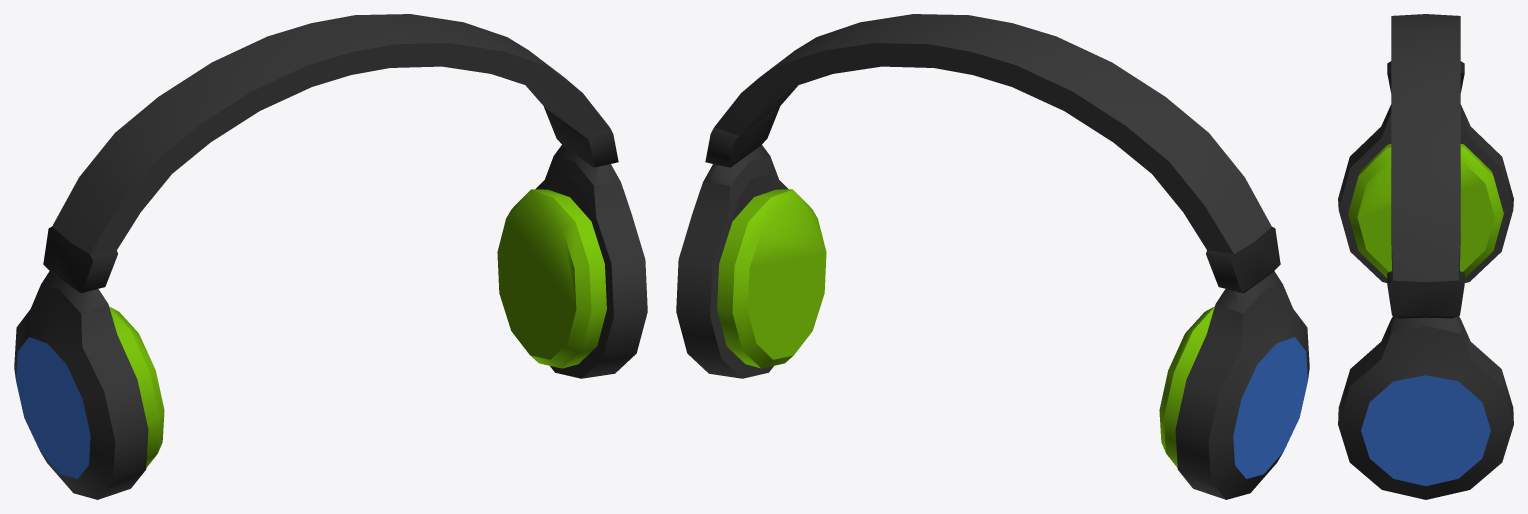
The model's file is Headphones.fbx.
The picture shows the model from 3 angles, left to right: view 1: azimuth 30°, elevation 25°; view 2: azimuth 150°, elevation 25°; view 3: azimuth 270°, elevation 25°; orthographic projection. The views are drawn at different scales.
Parts seen in each view (by area): view 1: Headphones; view 2: Headphones; view 3: Headphones.
Part boxes in pixels (left/top/right/bottom): Headphones: left=14, top=14, right=647, bottom=499; Headphones: left=676, top=14, right=1309, bottom=499; Headphones: left=1338, top=14, right=1513, bottom=499.
Bounding box in the file's own units: 87.51 × 58.23 × 27.06.
